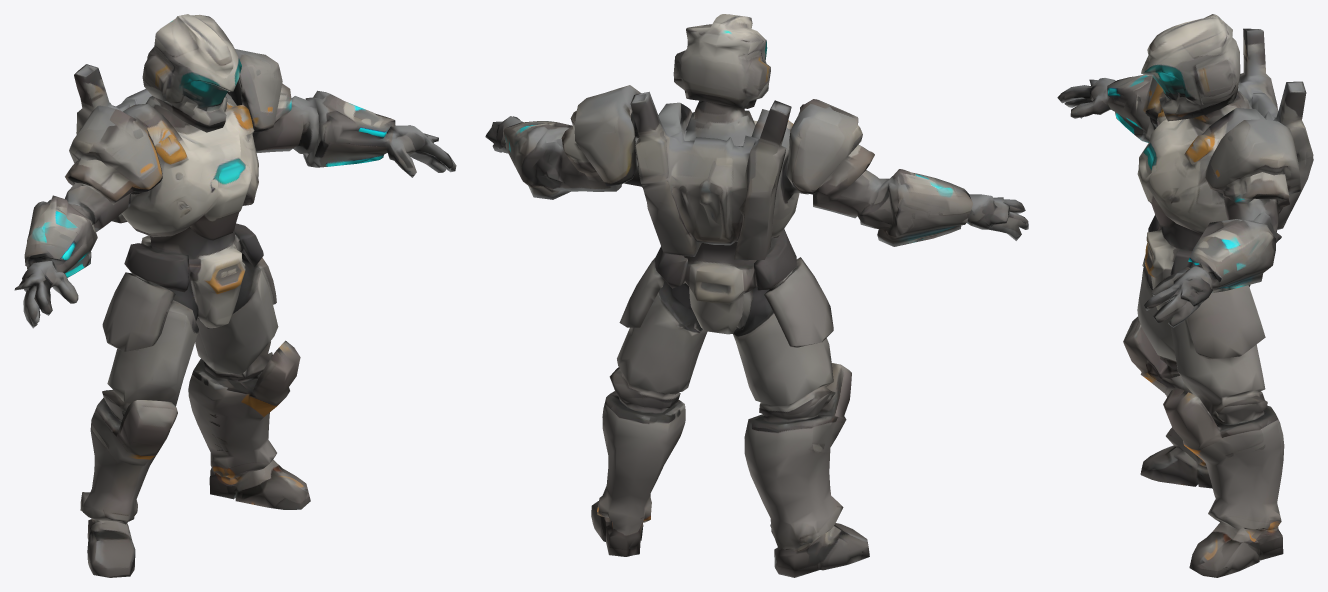
The model's file is sci-fi+gladiator+3d+model.obj.
3 views of the same model, side by side, from view 1: azimuth 30°, elevation 25°; view 2: azimuth 150°, elevation 25°; view 3: azimuth 270°, elevation 25° (orthographic). The views are drawn at different scales.
Visible parts, largest first — view 1: tripo_node_db5d1776-719d-47f2-bce7-be6a8532f1dd; view 2: tripo_node_db5d1776-719d-47f2-bce7-be6a8532f1dd; view 3: tripo_node_db5d1776-719d-47f2-bce7-be6a8532f1dd.
Part boxes in pixels (left/top/right/bottom): tripo_node_db5d1776-719d-47f2-bce7-be6a8532f1dd: left=14, top=14, right=456, bottom=577; tripo_node_db5d1776-719d-47f2-bce7-be6a8532f1dd: left=485, top=14, right=1028, bottom=577; tripo_node_db5d1776-719d-47f2-bce7-be6a8532f1dd: left=1057, top=14, right=1313, bottom=577.
Size of the model in its own units: 0.962 by 0.9999 by 0.4643.
1 material, 1 textured.
